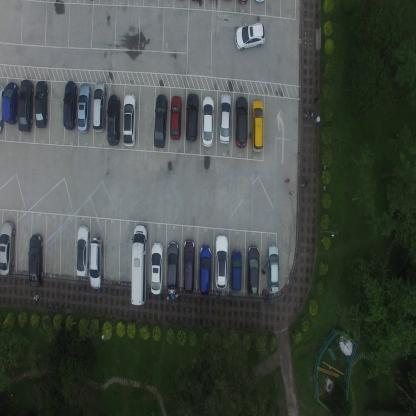car: (131, 224, 148, 306), (234, 21, 266, 52), (0, 219, 16, 276), (18, 79, 34, 134), (28, 233, 44, 288), (88, 236, 104, 289), (122, 93, 137, 146), (214, 235, 228, 291), (182, 238, 196, 294), (153, 94, 167, 149), (62, 80, 77, 130), (34, 79, 49, 129), (2, 82, 19, 126), (198, 245, 212, 298), (150, 242, 164, 295), (106, 93, 120, 146), (92, 80, 106, 133), (218, 92, 232, 144), (77, 82, 91, 134), (251, 99, 264, 154), (184, 92, 198, 143), (235, 96, 248, 149), (166, 242, 179, 295), (201, 95, 214, 148), (76, 226, 89, 278), (247, 246, 259, 298), (169, 94, 182, 141), (268, 243, 279, 294), (231, 249, 242, 293), (0, 82, 4, 134)
